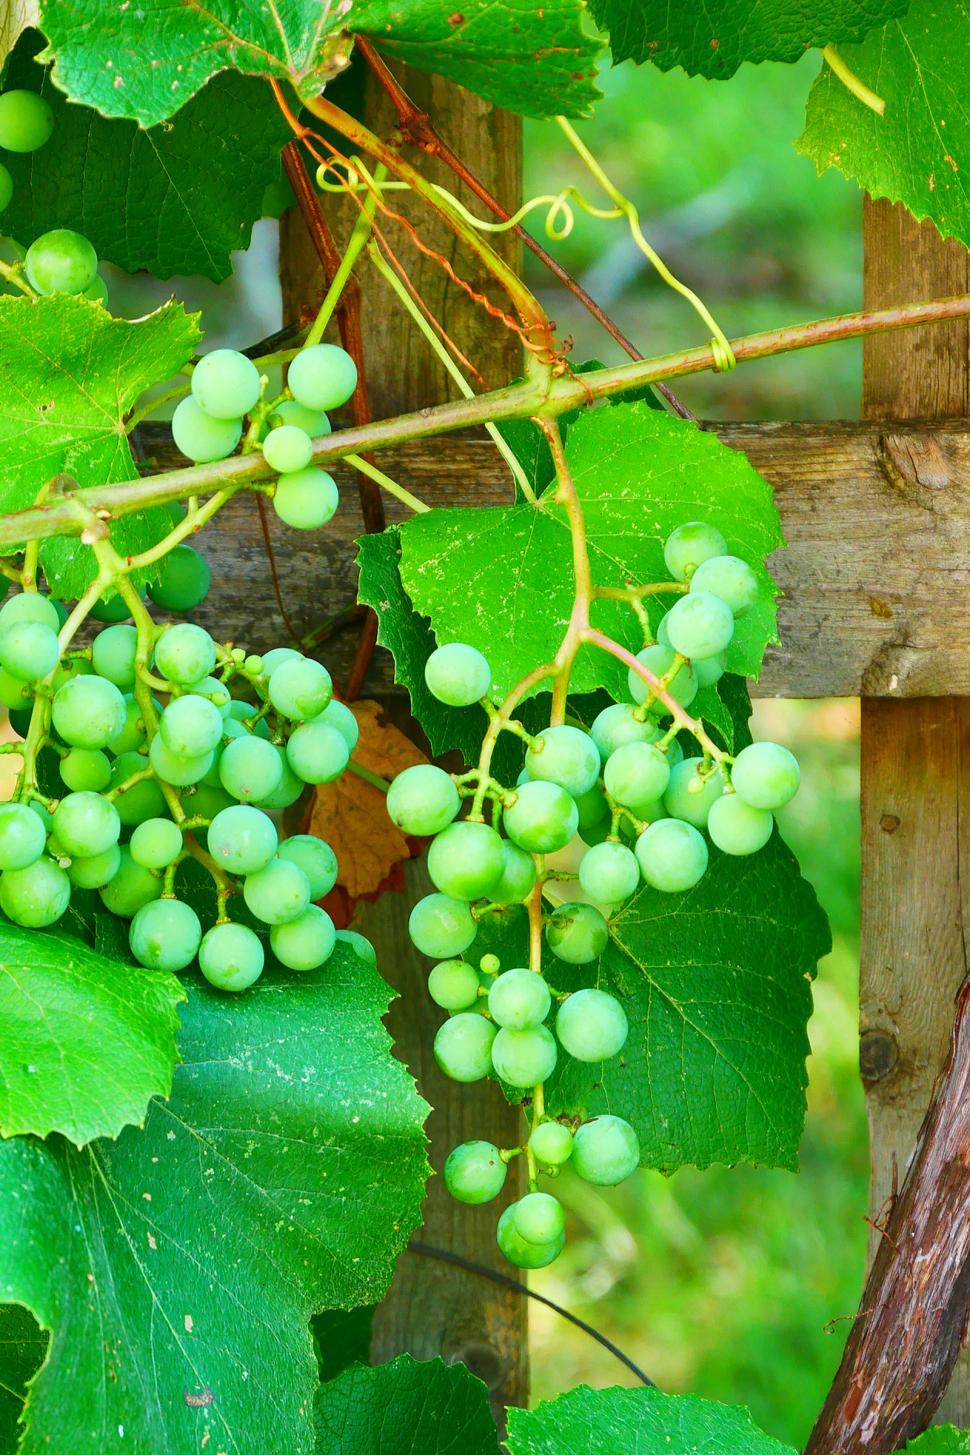grapes: (419, 611, 797, 1298), (19, 553, 373, 995), (150, 324, 388, 529)
